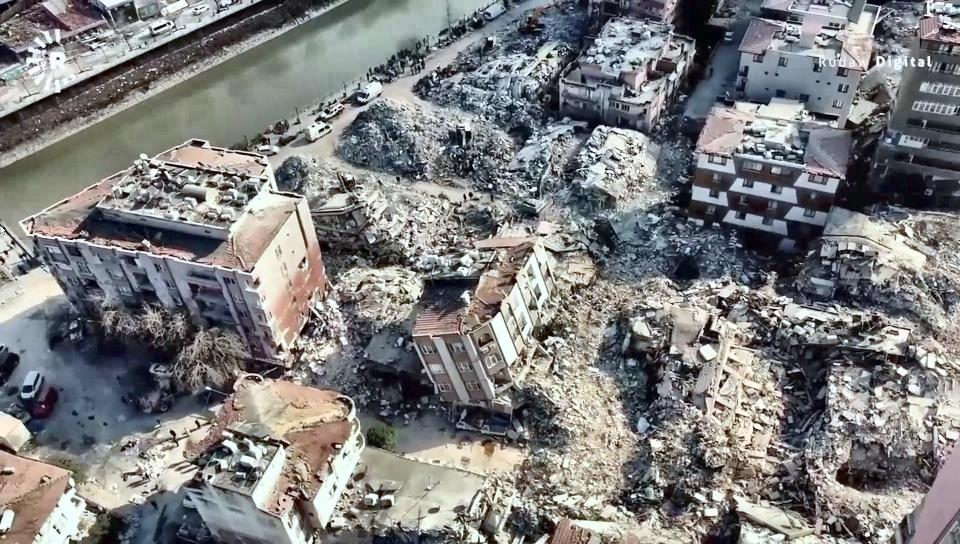kapali: (466, 434, 883, 543)
